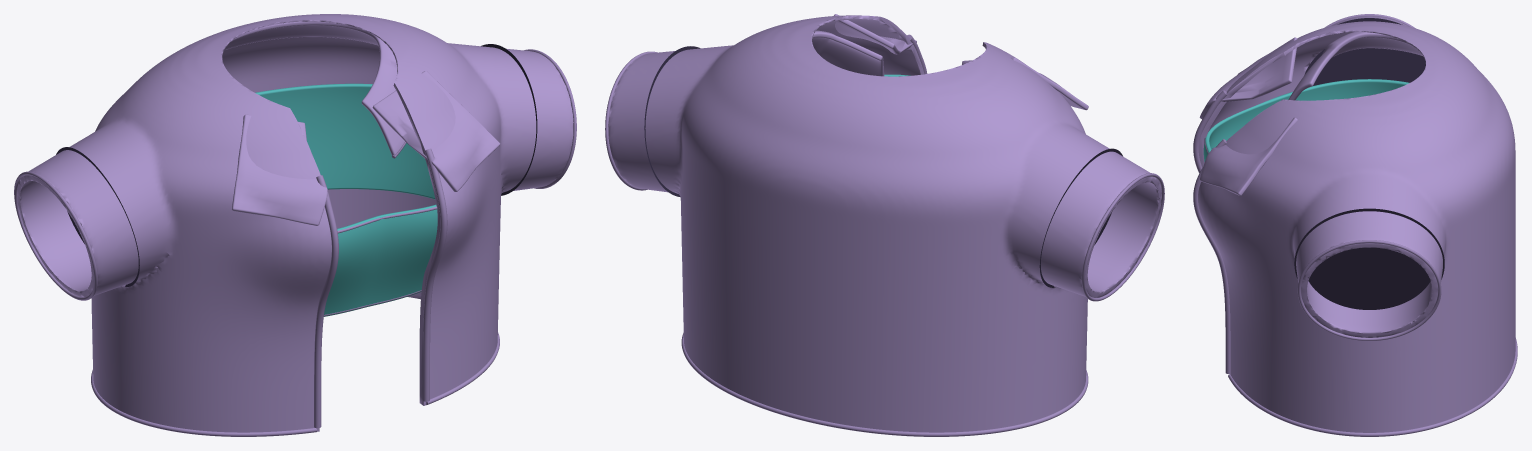
File: Feminine-open-top.glb
3 renders of one model, left to right at view 1: azimuth 30°, elevation 25°; view 2: azimuth 150°, elevation 25°; view 3: azimuth 270°, elevation 25°, orthographic. The views are drawn at different scales.
Visible parts, largest first — view 1: Clothing / open, Clothing / Bandeau underlayer, Open shirt / front collar leaf -1, Open shirt / front collar leaf 1, Open shirt / folded collar, Open shirt / placket.001 export, Open shirt / placket export, Shirt / hem export, Sleeve / open cuff -1 export, Sleeve / open cuff 1 export; view 2: Clothing / open, Shirt / hem export, Open shirt / folded collar, Sleeve / open cuff -1 export, Open shirt / front collar leaf 1, Sleeve / open cuff 1 export; view 3: Clothing / open, Sleeve / recessed facing 1, Sleeve / recessed facing -1, Clothing / Bandeau underlayer, Open shirt / front collar leaf 1, Open shirt / front collar leaf -1, Open shirt / folded collar, Shirt / hem export, Sleeve / open cuff 1 export, Open shirt / placket.001 export, Open shirt / placket export.
Part boxes in pixels (box(x1,y1,x2,y2)): Clothing / open: box(17, 14, 573, 432); Clothing / Bandeau underlayer: box(255, 83, 437, 316); Open shirt / front collar leaf -1: box(232, 114, 327, 225); Open shirt / front collar leaf 1: box(372, 71, 500, 191); Open shirt / folded collar: box(224, 21, 405, 155); Open shirt / placket.001 export: box(423, 148, 447, 401); Open shirt / placket export: box(314, 175, 338, 428); Shirt / hem export: box(91, 332, 499, 436); Sleeve / open cuff -1 export: box(14, 171, 97, 300); Sleeve / open cuff 1 export: box(524, 49, 576, 188); Clothing / open: box(608, 15, 1161, 432); Shirt / hem export: box(681, 333, 1088, 436); Open shirt / folded collar: box(812, 30, 884, 76); Sleeve / open cuff -1 export: box(1081, 173, 1164, 301); Open shirt / front collar leaf 1: box(834, 14, 916, 54); Sleeve / open cuff 1 export: box(605, 51, 657, 190); Clothing / open: box(1198, 16, 1515, 432); Sleeve / recessed facing 1: box(1294, 208, 1444, 309); Sleeve / recessed facing -1: box(1305, 18, 1425, 85); Clothing / Bandeau underlayer: box(1203, 79, 1409, 161); Open shirt / front collar leaf 1: box(1199, 117, 1297, 195); Open shirt / front collar leaf -1: box(1199, 37, 1297, 119); Open shirt / folded collar: box(1288, 31, 1422, 100); Shirt / hem export: box(1228, 338, 1517, 436); Sleeve / open cuff 1 export: box(1297, 240, 1441, 340); Open shirt / placket.001 export: box(1193, 139, 1230, 373); Open shirt / placket export: box(1193, 90, 1226, 173).
Size of the model in its own units: 0.9725 by 0.5798 by 0.587.
